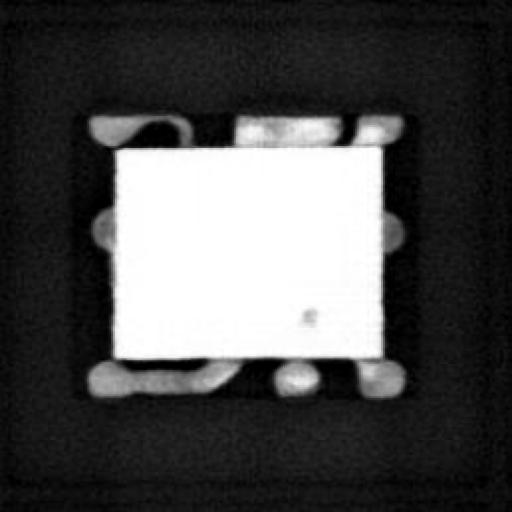DIE_INK: (296, 302, 320, 324)
